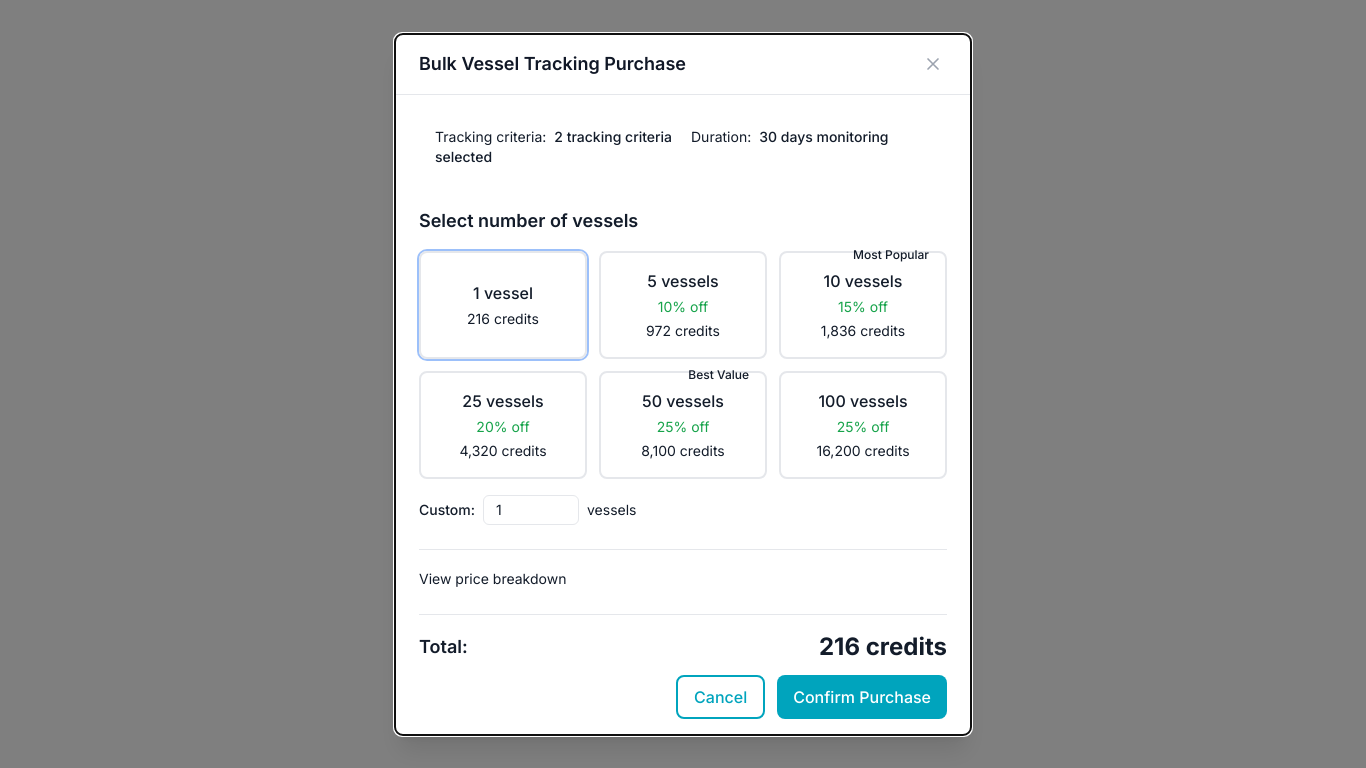
Test case: BulkPurchaseModal › shows loading state during purchase
The width and height of the screenshot is (1366, 768).
Step 1. Click the button "Confirm Purchase" → (862, 696), box [777,674,947,718]
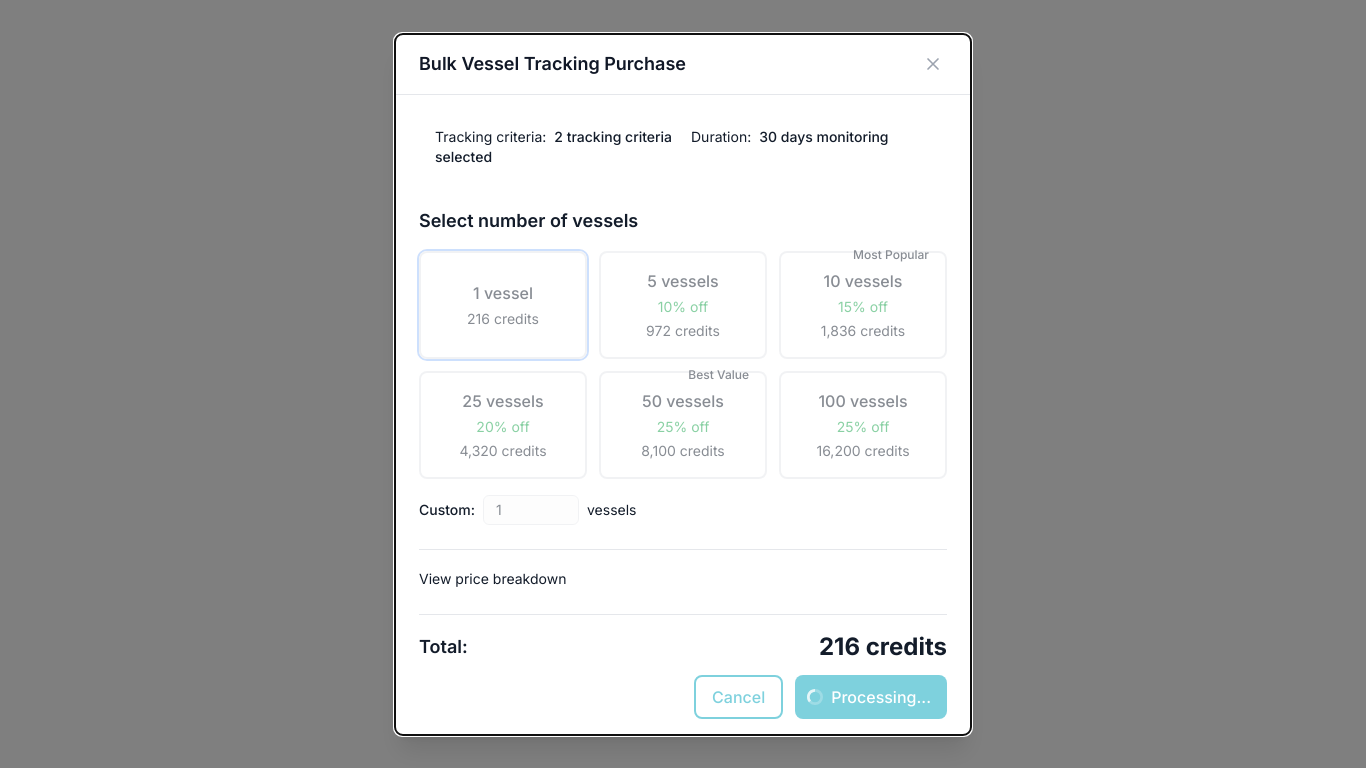
Now the button "Processing..." is disabled, box [795,674,947,718]
